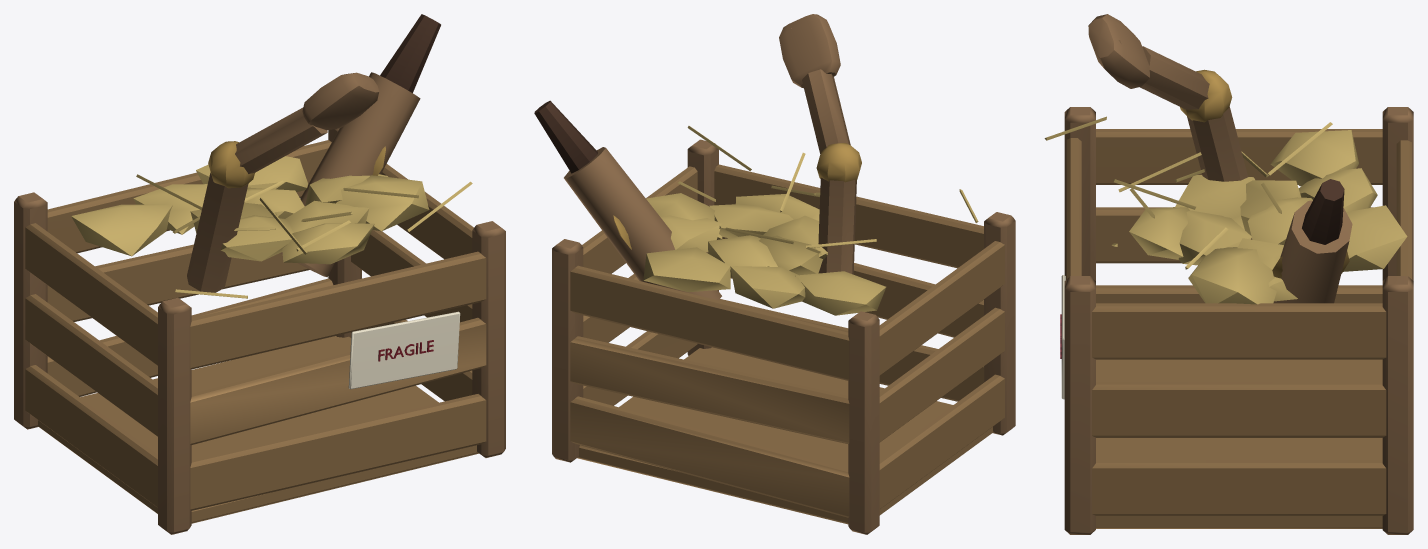
The model's file is crate_prosthetic.glb.
The picture shows the model from 3 angles, left to right: view 1: azimuth 30°, elevation 25°; view 2: azimuth 150°, elevation 25°; view 3: azimuth 270°, elevation 25°; orthographic projection. The views are drawn at different scales.
Visible parts, largest first — view 1: crate_prosthetic; view 2: crate_prosthetic; view 3: crate_prosthetic.
Part boxes in pixels (box(x1,y1,x2,y2)): crate_prosthetic: box(14, 14, 505, 534); crate_prosthetic: box(534, 14, 1015, 534); crate_prosthetic: box(1044, 14, 1413, 534).
Bounding box in the file's own units: 0.7206 × 0.7109 × 0.5345.
